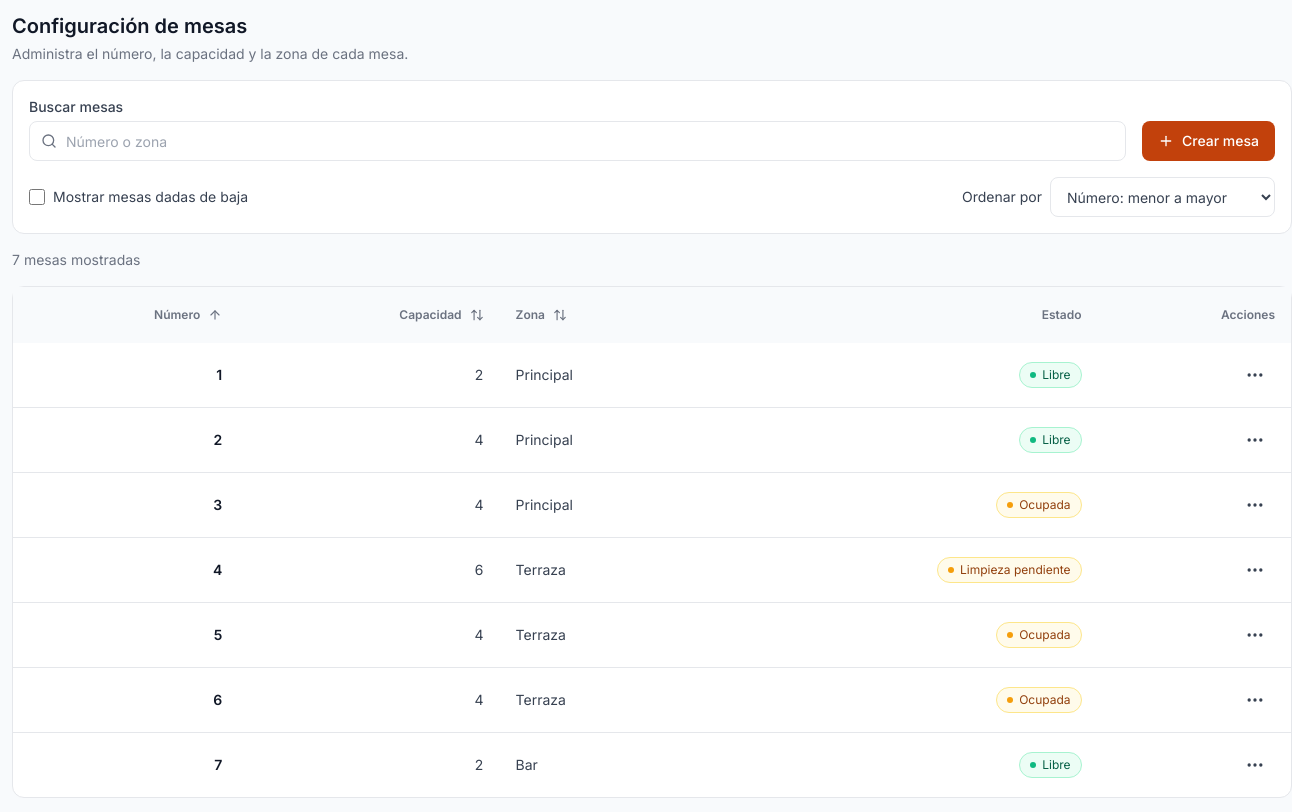
Test: FE-006 · Administración de mesas (integración frontend + MSW) › RNF-010: busca por número y zona y ordena por número, capacidad y zona
Step 1. Click the button with aria-label "Ordenar por número" → (126, 315), box [29,295,222,335]
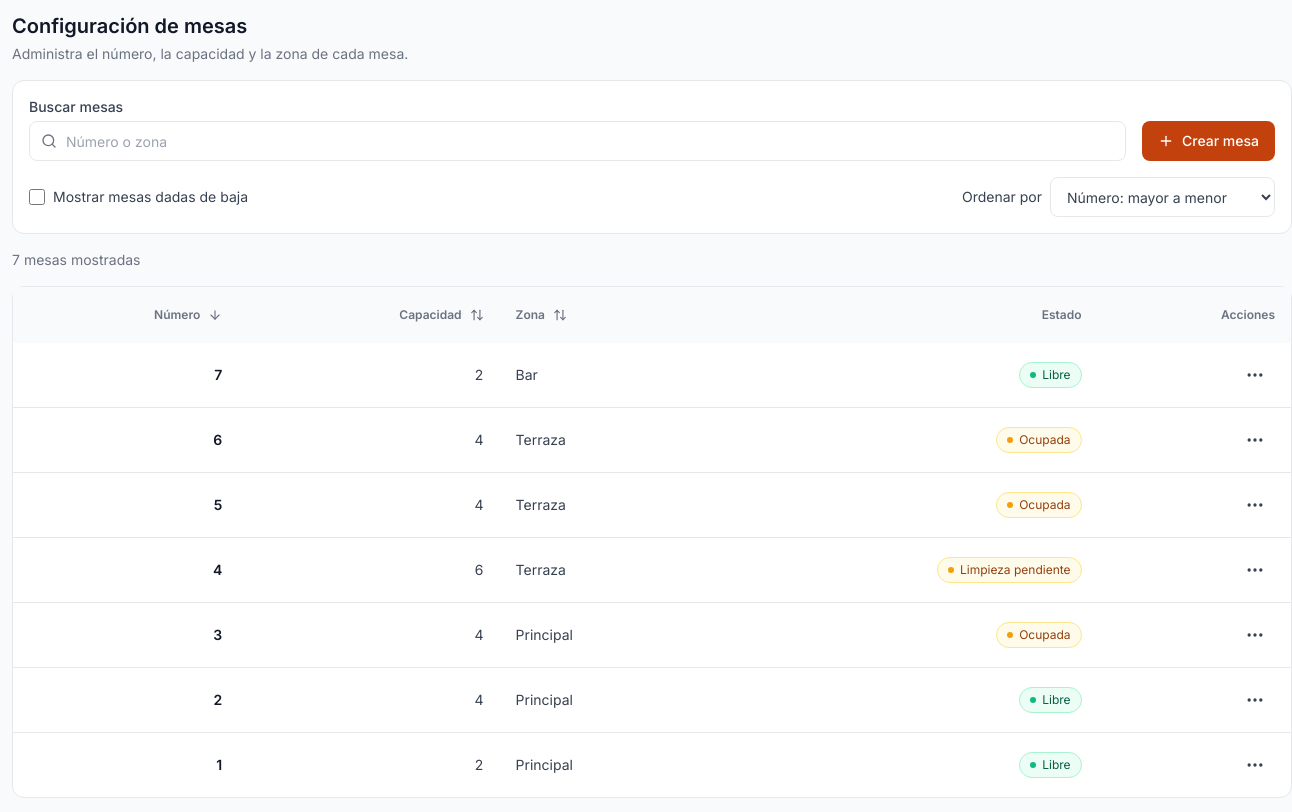
Step 2. Select "Capacidad: mayor a menor" in the dropdown labelled "Ordenar por" → (1162, 197), box [1050,177,1275,217]
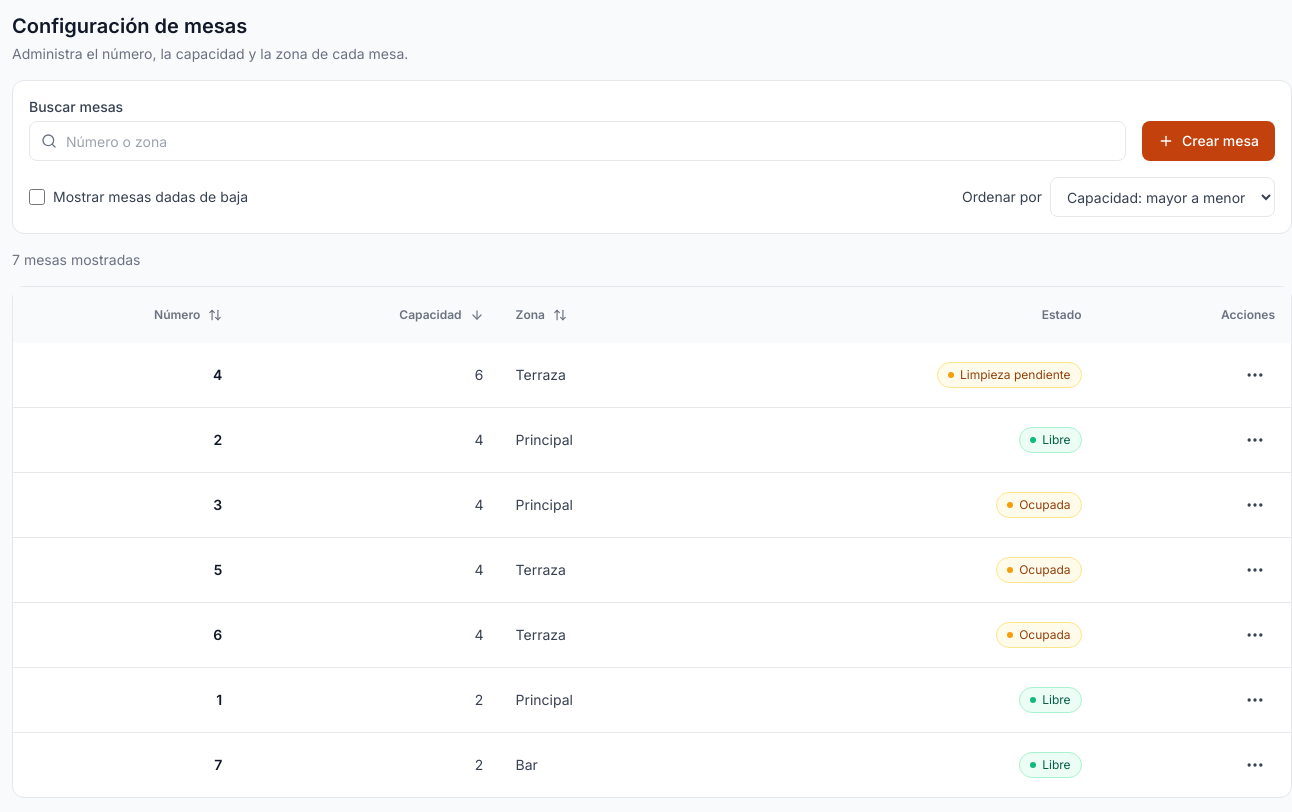
Step 3. Select "Zona: A a Z" in the dropdown labelled "Ordenar por" → (1162, 197), box [1050,177,1275,217]
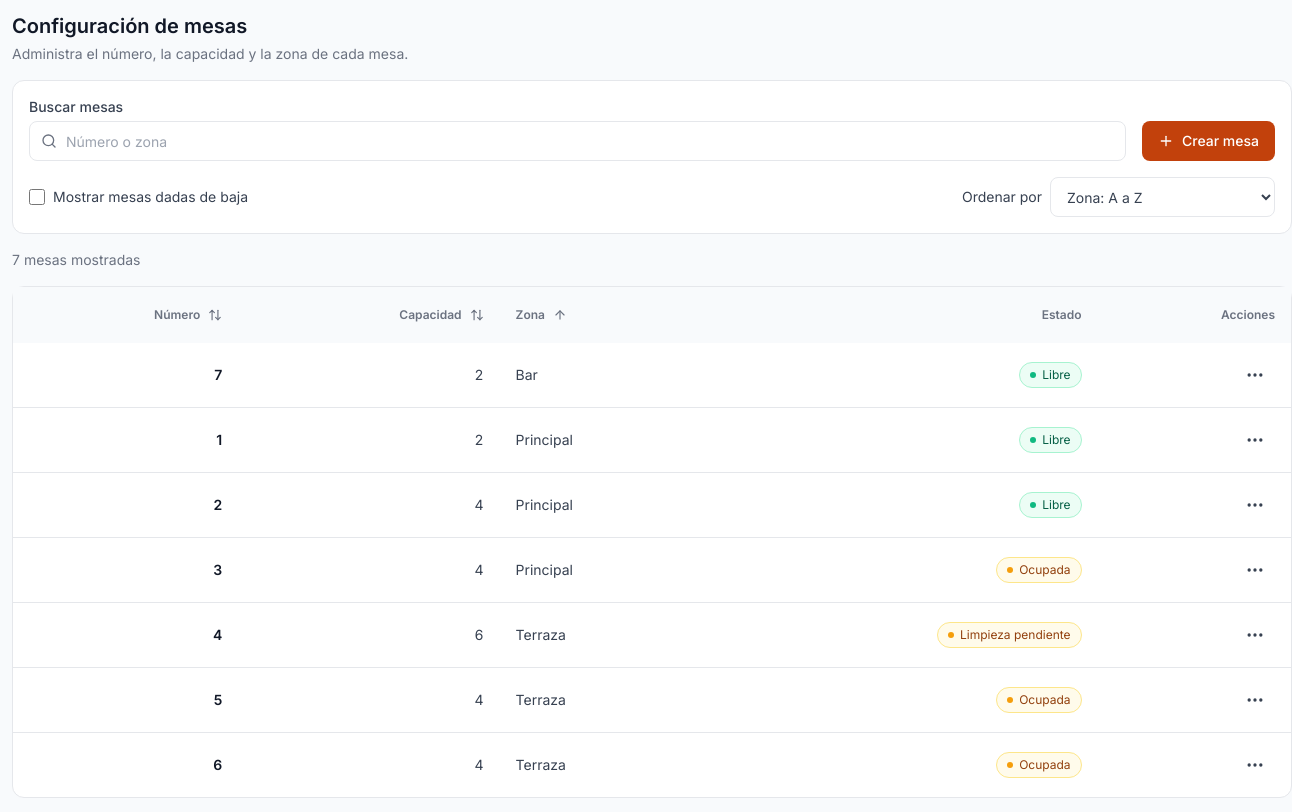
Step 4. Type " TERRAZA " into the search field labelled "Buscar mesas" → (578, 141), box [29,121,1126,161]
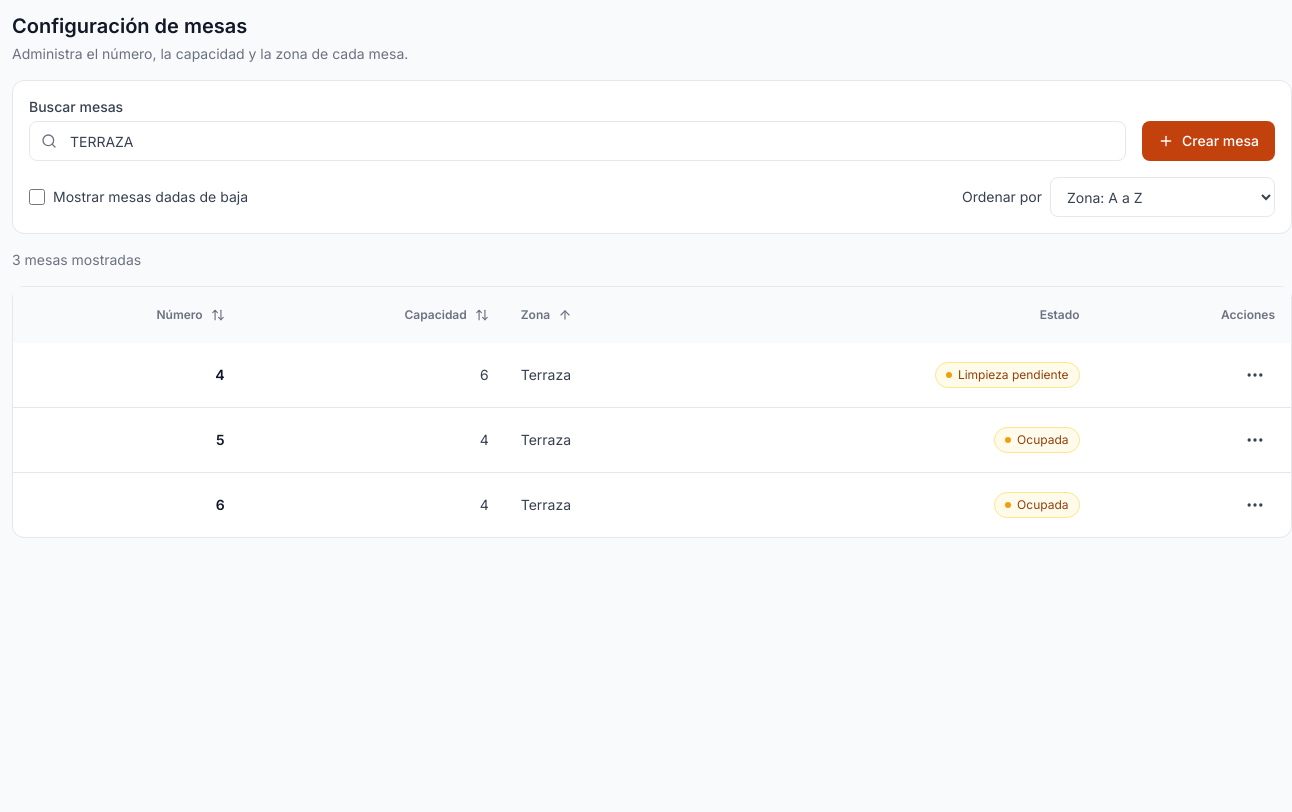
Step 5. Replace the text in the search field labelled "Buscar mesas" with "2" → (578, 141), box [29,121,1126,161]
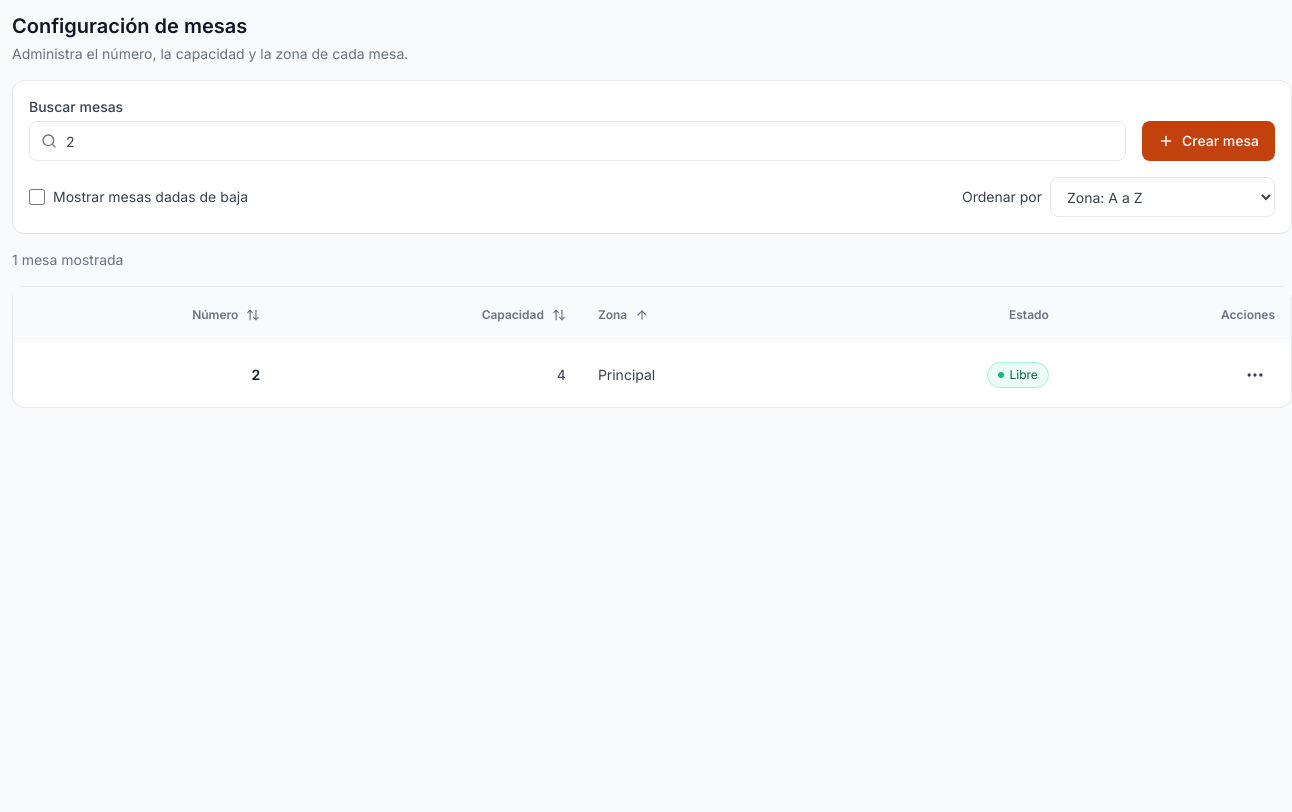
Step 6. Replace the text in the search field labelled "Buscar mesas" with "sin coincidencias" → (578, 141), box [29,121,1126,161]
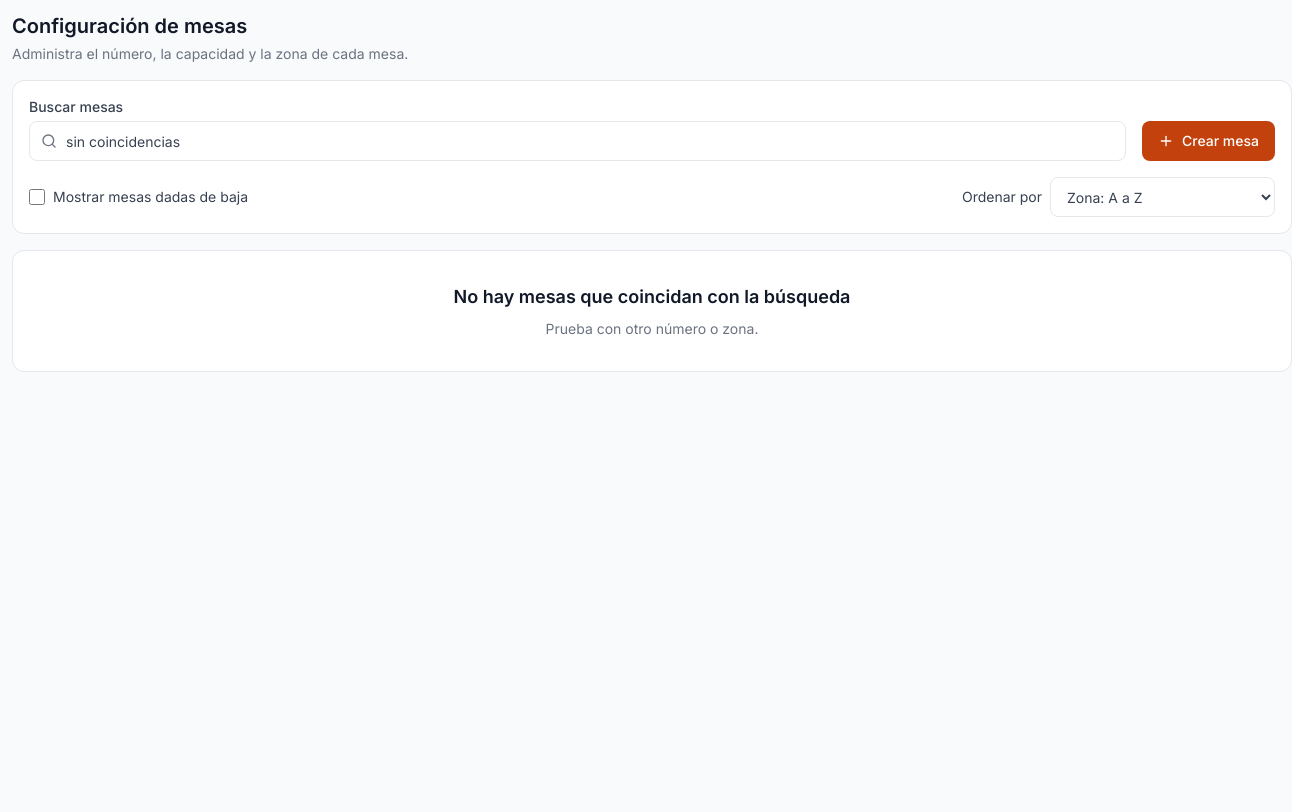
expect the heading "No hay mesas que coincidan con la búsqueda" is shown: met, box [454,286,850,307]
